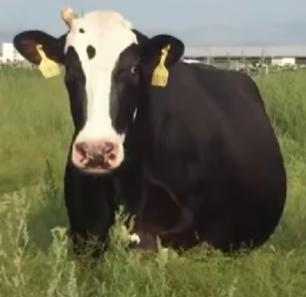cow: (13, 13, 285, 255)
